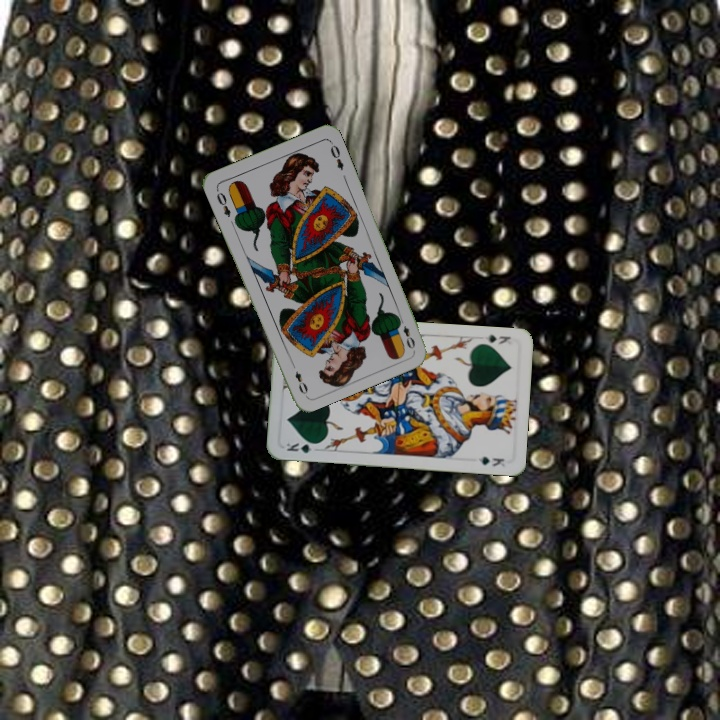EO: (395, 313, 418, 352), (212, 185, 234, 220)
GK: (282, 439, 322, 455), (481, 331, 513, 347)
